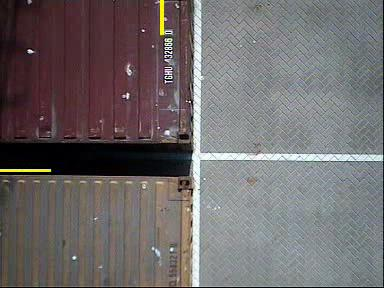groundmarker_2: (199, 103, 238, 165)
